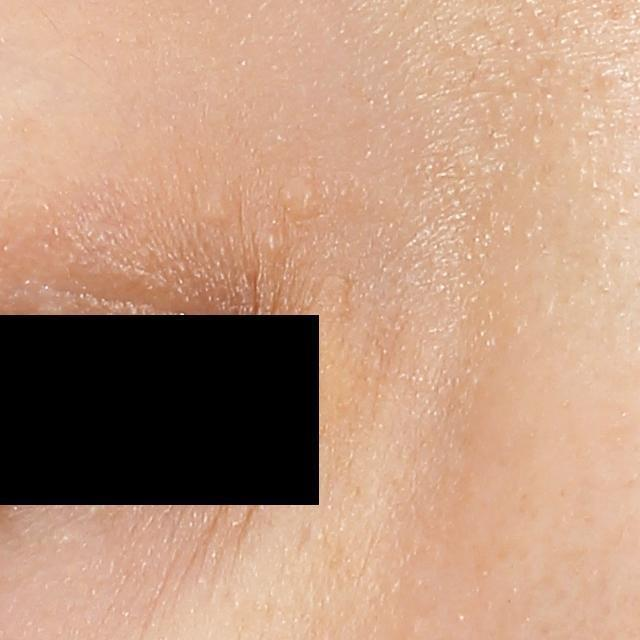comedo: (275, 171, 324, 226), (255, 228, 286, 259)
